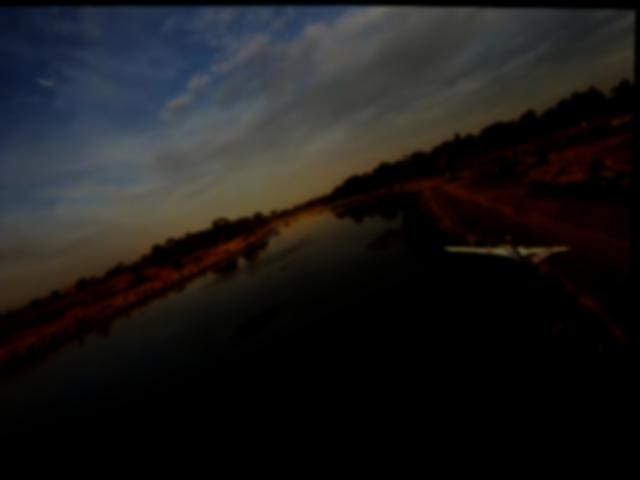uav: (441, 237, 573, 273)
